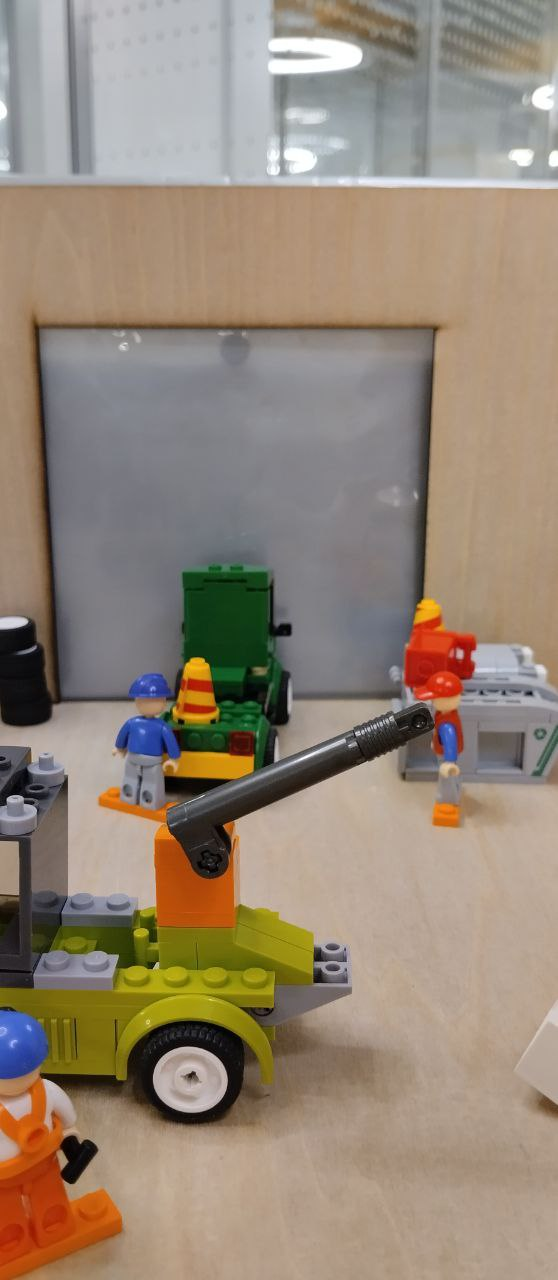Cone: (172, 657, 222, 724), (405, 598, 449, 670)
Crane: (0, 704, 441, 1115)
Object Red: (406, 628, 477, 692)
Truck: (156, 564, 296, 786)
